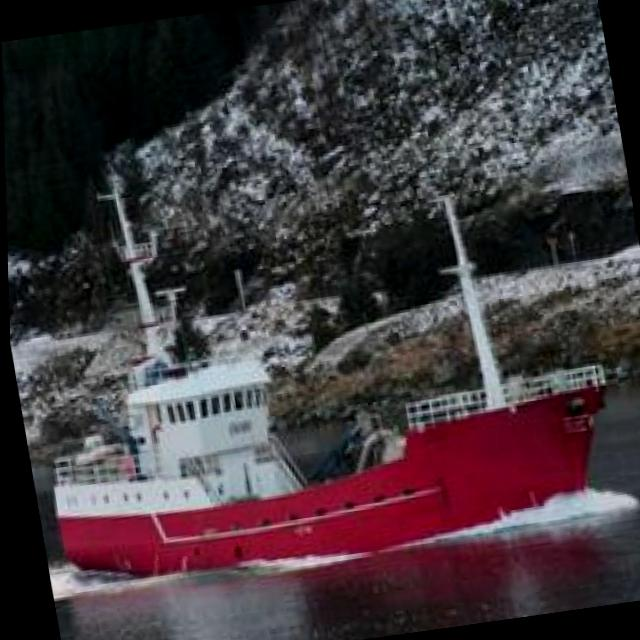ship2: (51, 170, 638, 578)
